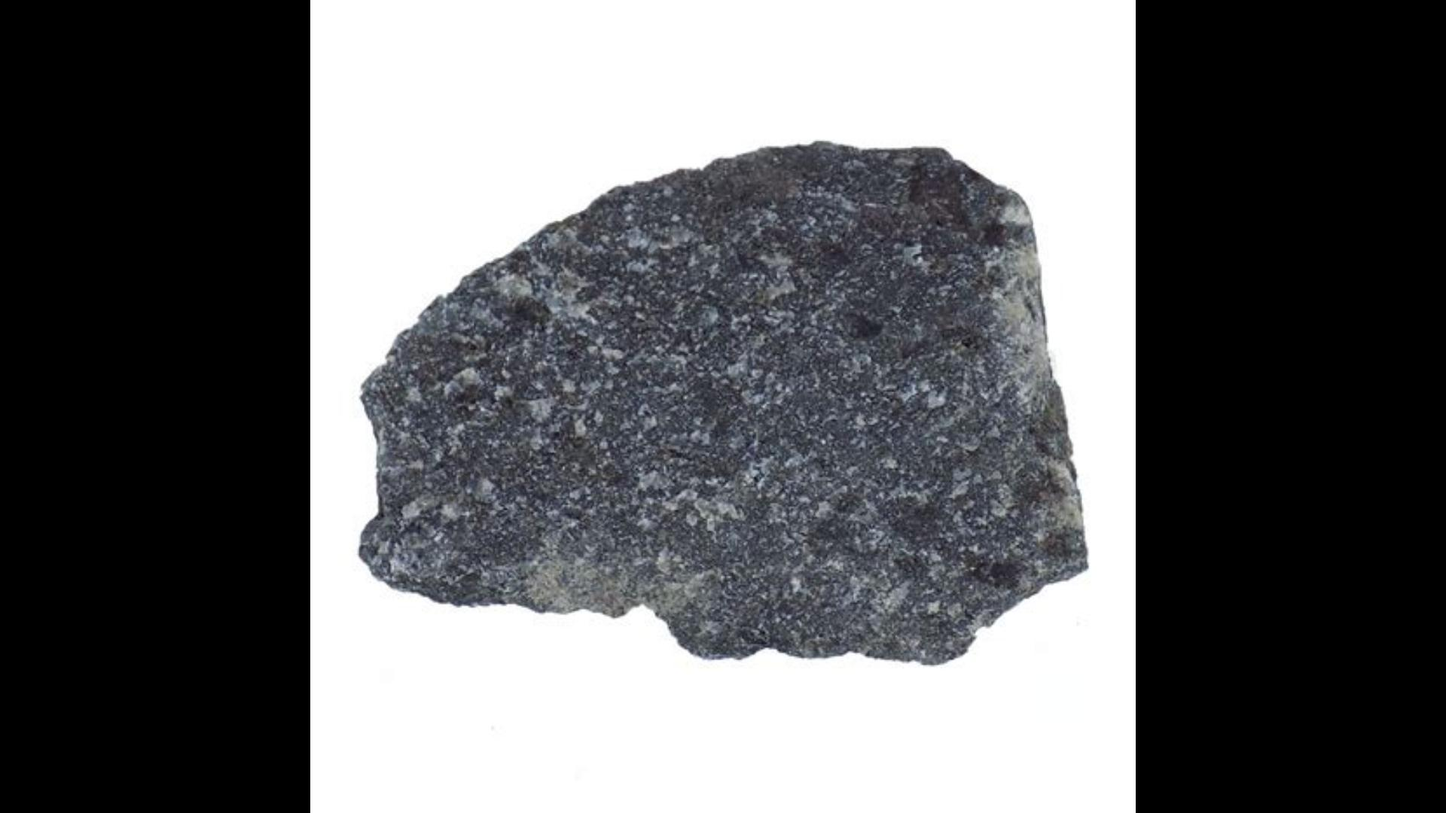rock: (363, 143, 1085, 655)
